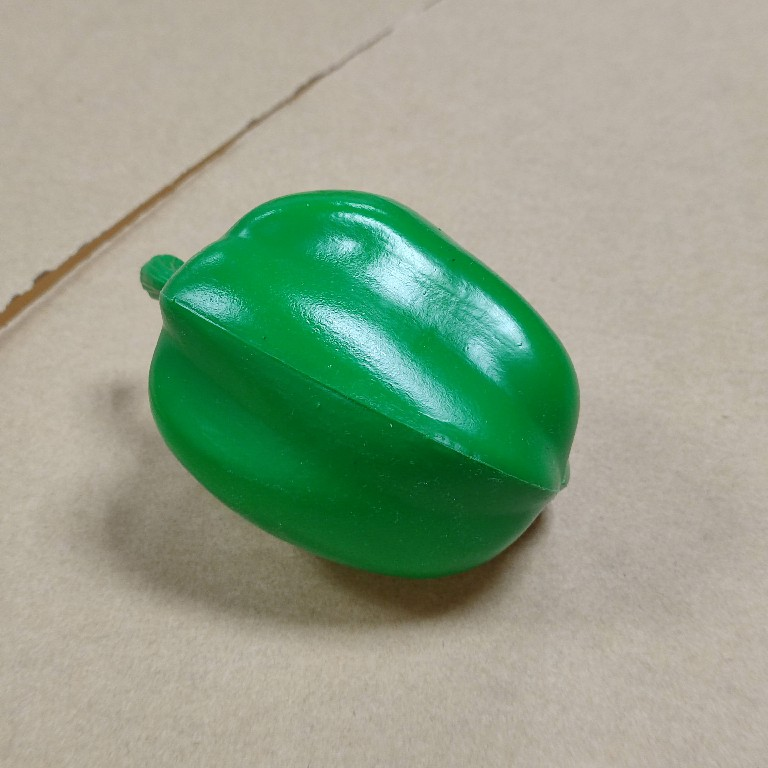fruit_pepper: (136, 186, 586, 586)
